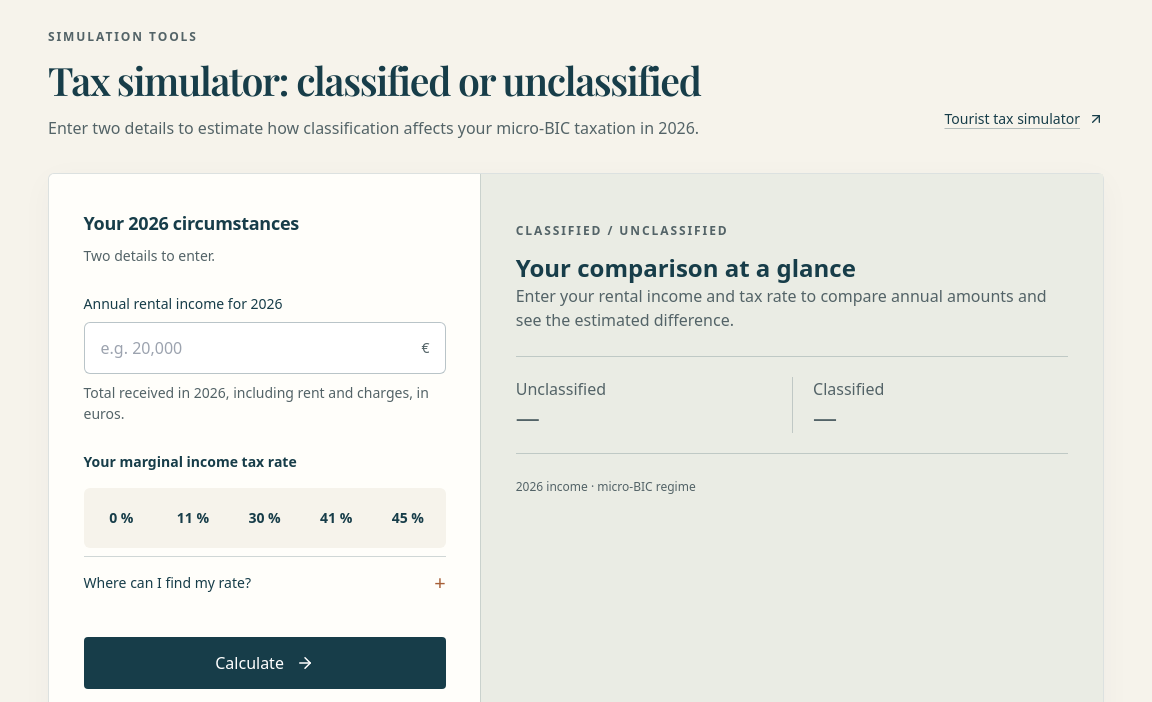
it: parcours et restauration des simulateurs › localise en anglais l’erreur de recettes du simulateur fiscal
Step 1. Type "abc" into the field with id "annual-revenue-input" → (265, 348), box [84,322,446,374]
(page scrolled)
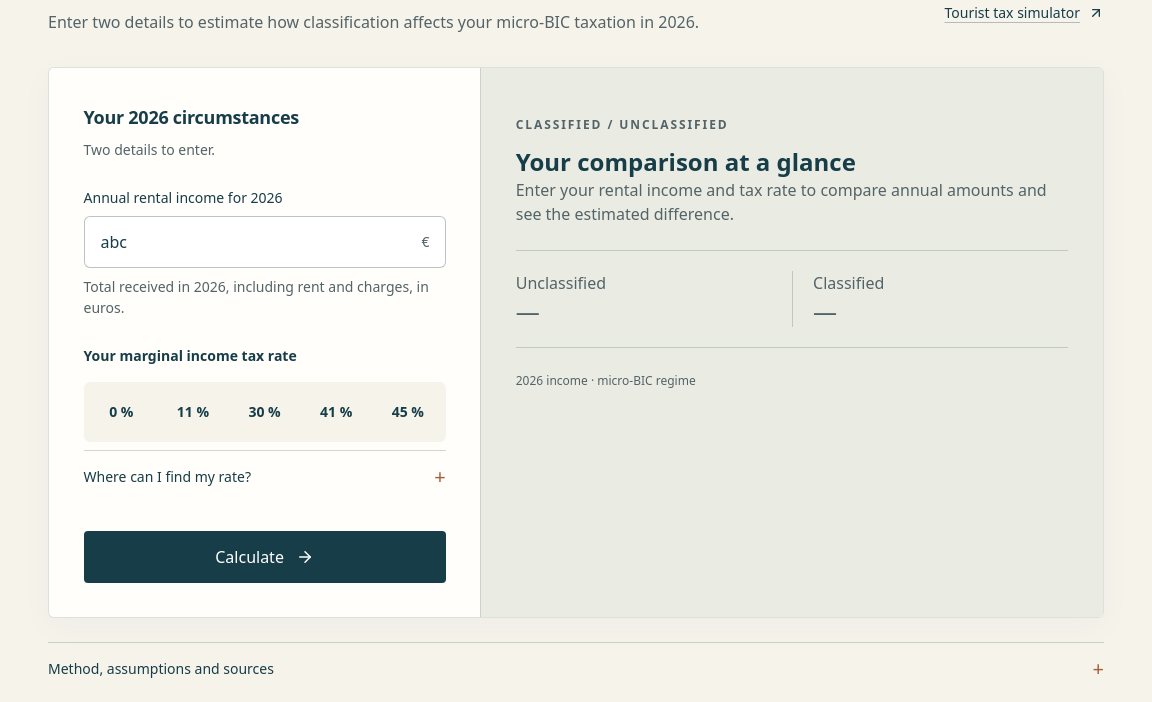
Step 2. Submit the form, box [49,68,480,617]
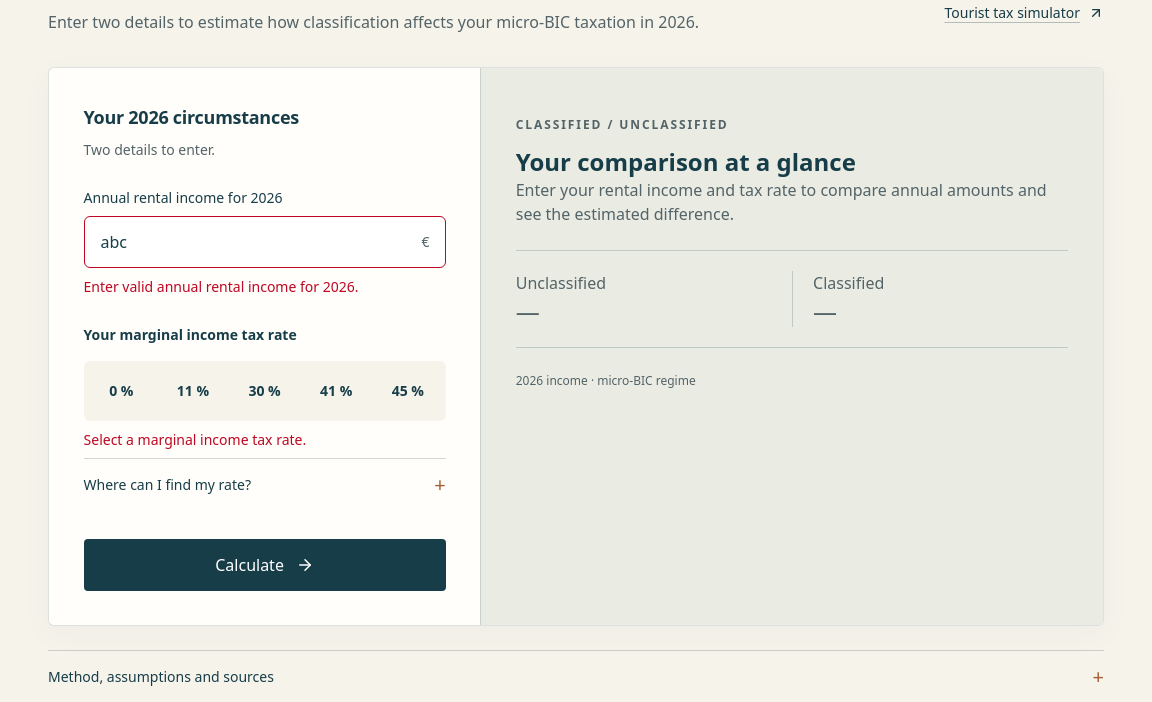
expect the text "Enter valid annual rental income for 2026." is shown: met, box [84,277,358,296]
